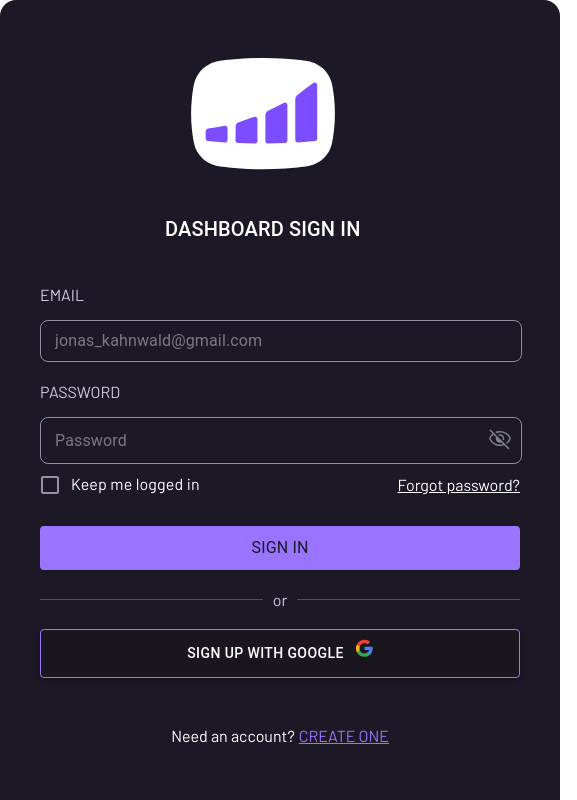
SignIn Organism TestCase › should toggles password visibility icon when the create password input is clicked
Expected: the picture with alt text "InvisibleIconShowPassword" is shown, [489,428,511,450]
Step 1. Click the button with alt text "InvisibleIconShowPassword" → point(500, 440), box [481,418,519,462]
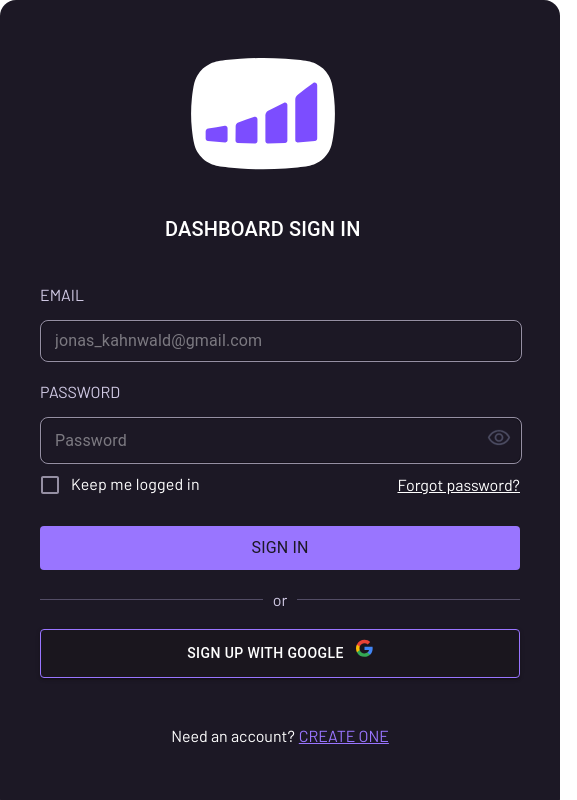
Expected: the picture with alt text "VisibleIconShowPassword" is shown, [487,426,511,450]
Step 2. Click the button with alt text "VisibleIconShowPassword" → point(499, 440), box [479,418,519,462]
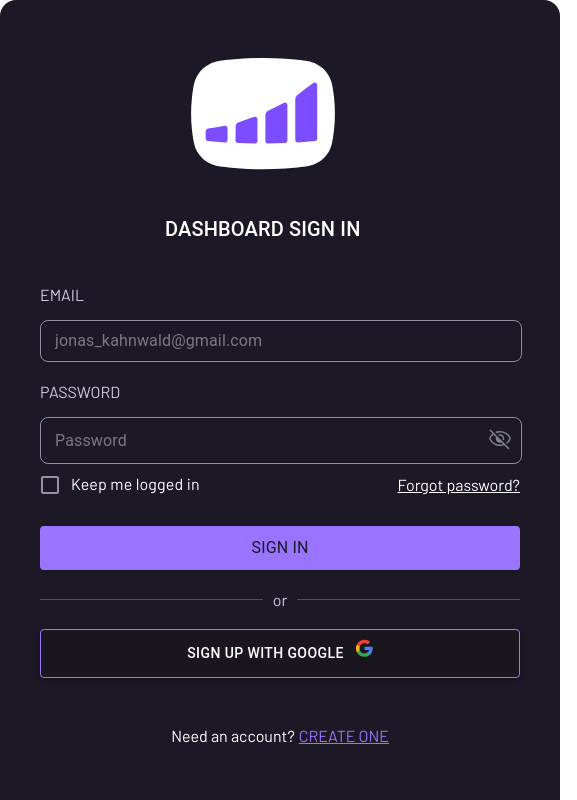
Result: the picture with alt text "InvisibleIconShowPassword" is shown at [489,428,511,450]
